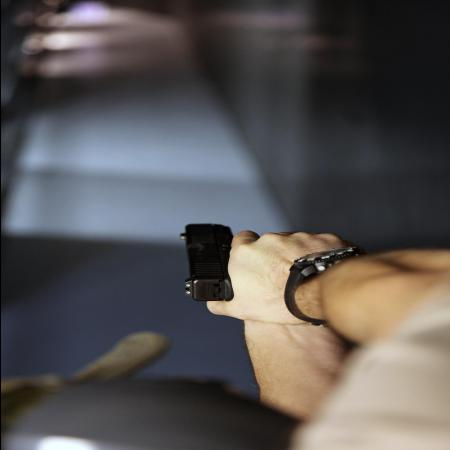Pistol: (170, 221, 252, 300)
